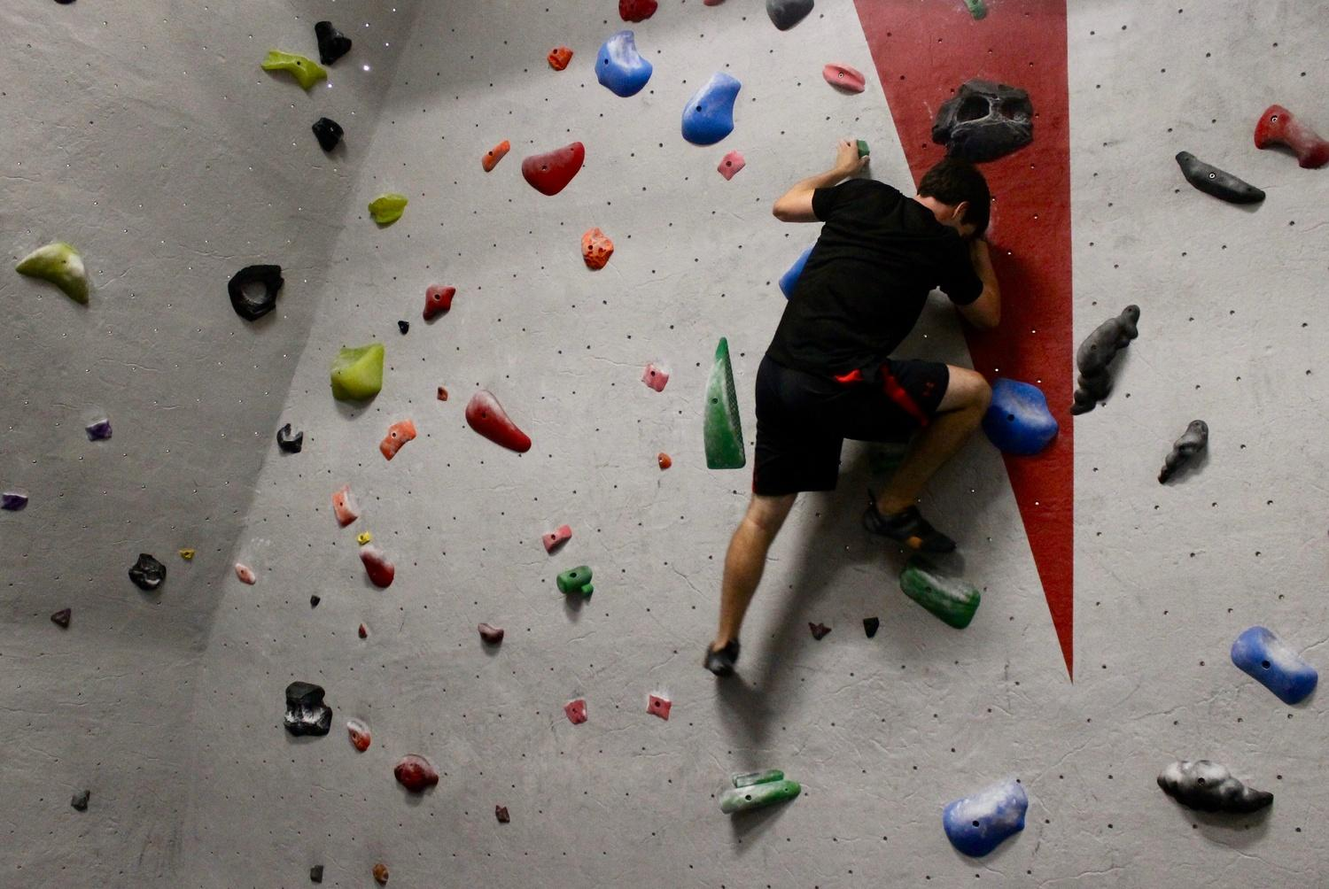black-hold: (1050, 290, 1151, 426), (929, 73, 1042, 173), (933, 769, 1043, 868), (1223, 617, 1325, 715), (974, 372, 1069, 465), (891, 548, 988, 634), (1165, 147, 1269, 219), (694, 335, 747, 472), (12, 228, 105, 306), (1246, 100, 1329, 183), (455, 385, 536, 469), (581, 25, 661, 108), (1158, 760, 1274, 812), (219, 253, 298, 327), (677, 66, 744, 151), (1147, 415, 1217, 489), (517, 139, 596, 203), (258, 40, 331, 97), (716, 772, 804, 816), (329, 342, 386, 401), (281, 680, 336, 741), (389, 747, 444, 802), (569, 224, 621, 275), (349, 542, 402, 592), (371, 412, 423, 462), (311, 15, 357, 68), (123, 548, 172, 597), (364, 186, 414, 229), (818, 57, 870, 98), (775, 241, 812, 298), (305, 112, 349, 155), (271, 420, 311, 459), (765, 0, 815, 31), (476, 134, 514, 174), (326, 488, 361, 529), (422, 283, 457, 324), (555, 564, 595, 599), (344, 715, 377, 755), (730, 765, 785, 789), (538, 520, 576, 554), (714, 147, 749, 182), (638, 361, 672, 394), (543, 40, 575, 74), (562, 696, 594, 728), (618, 0, 659, 24), (643, 693, 675, 722), (67, 785, 97, 815), (229, 560, 260, 589), (804, 613, 833, 643), (84, 417, 115, 445), (474, 621, 506, 646), (48, 606, 77, 632), (368, 861, 394, 887), (860, 613, 884, 639), (0, 493, 29, 512), (653, 450, 675, 472), (964, 0, 986, 21), (308, 863, 324, 884), (495, 804, 511, 824), (857, 139, 871, 159), (355, 531, 373, 545), (356, 622, 368, 639), (307, 594, 321, 608), (179, 549, 195, 561), (397, 320, 409, 336), (437, 387, 449, 401), (703, 0, 725, 7)
